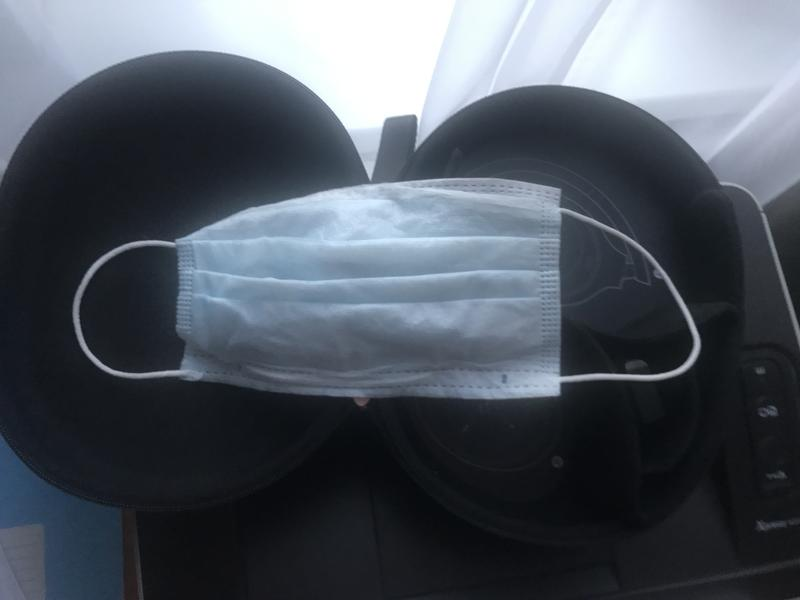medical_mask: (70, 180, 703, 401)
